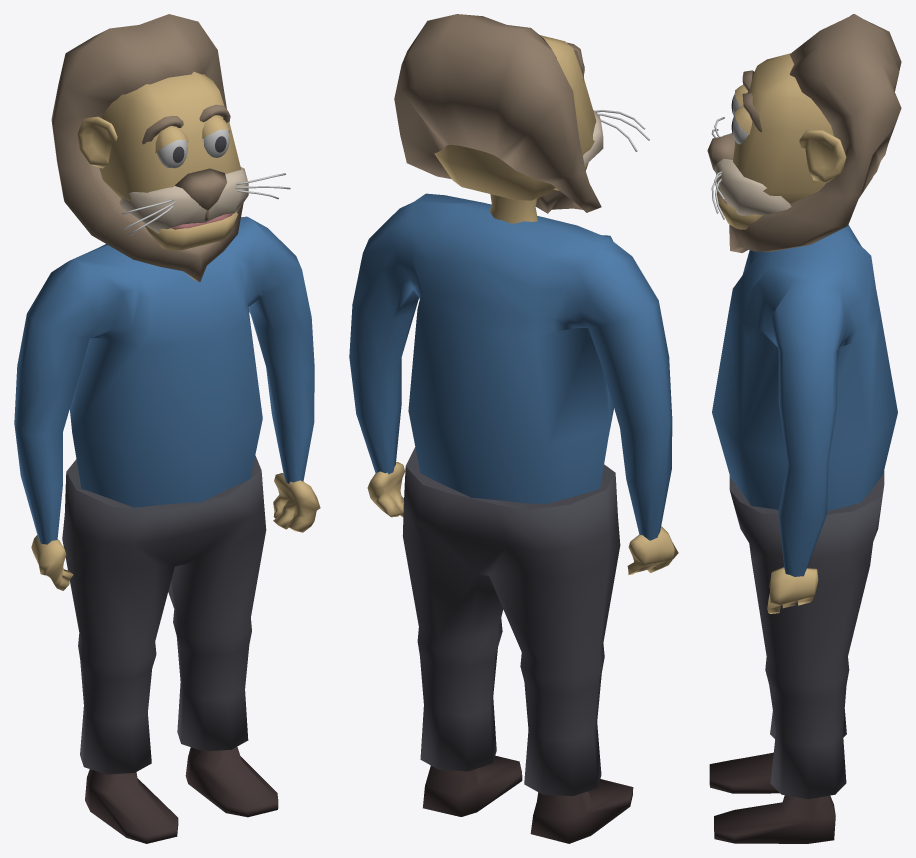
Rendered from lion_male2.dae.
3 views of the same model, side by side, from view 1: azimuth 30°, elevation 25°; view 2: azimuth 150°, elevation 25°; view 3: azimuth 270°, elevation 25° (orthographic). The views are drawn at different scales.
Parts seen in each view (by area): view 1: Mesh_007, Mesh_003, Mesh_021, Mesh_008, Mesh_022, Mesh_005, Mesh_014, Mesh_011, Mesh_001, Mesh_018, Mesh_016, Mesh_020 (+2 smaller); view 2: Mesh_007, Mesh_003, Mesh_021, Mesh_008, Mesh_022, Mesh_005, Mesh_020, Mesh_011, Mesh_012; view 3: Mesh_007, Mesh_003, Mesh_021, Mesh_008, Mesh_005, Mesh_014, Mesh_022, Mesh_013, Mesh_011, Mesh_016, Mesh_001.
Boxes of the visible parts, left/top/right/bottom form: Mesh_007: left=14, top=216, right=314, bottom=544; Mesh_003: left=62, top=455, right=266, bottom=774; Mesh_021: left=51, top=14, right=243, bottom=281; Mesh_008: left=99, top=71, right=241, bottom=200; Mesh_022: left=85, top=769, right=178, bottom=843; Mesh_005: left=185, top=747, right=278, bottom=817; Mesh_014: left=119, top=167, right=248, bottom=233; Mesh_011: left=273, top=473, right=320, bottom=532; Mesh_001: left=144, top=211, right=237, bottom=250; Mesh_018: left=77, top=116, right=117, bottom=168; Mesh_016: left=175, top=168, right=226, bottom=210; Mesh_020: left=31, top=535, right=73, bottom=590; Mesh_007: left=349, top=193, right=672, bottom=540; Mesh_003: left=402, top=447, right=620, bottom=796; Mesh_021: left=394, top=14, right=601, bottom=213; Mesh_008: left=434, top=35, right=596, bottom=201; Mesh_022: left=530, top=779, right=633, bottom=843; Mesh_005: left=423, top=755, right=522, bottom=816; Mesh_020: left=627, top=526, right=678, bottom=574; Mesh_011: left=367, top=462, right=405, bottom=517; Mesh_012: left=490, top=194, right=537, bottom=223; Mesh_007: left=712, top=225, right=897, bottom=576; Mesh_003: left=729, top=470, right=884, bottom=799; Mesh_021: left=729, top=14, right=901, bottom=252; Mesh_008: left=732, top=53, right=872, bottom=203; Mesh_005: left=714, top=795, right=835, bottom=843; Mesh_014: left=715, top=133, right=791, bottom=215; Mesh_022: left=709, top=752, right=779, bottom=793; Mesh_013: left=799, top=130, right=846, bottom=182; Mesh_011: left=767, top=567, right=818, bottom=613; Mesh_016: left=707, top=134, right=734, bottom=171; Mesh_001: left=716, top=180, right=762, bottom=229.
Size of the model in its own units: 9.24 by 5.13 by 22.61.
